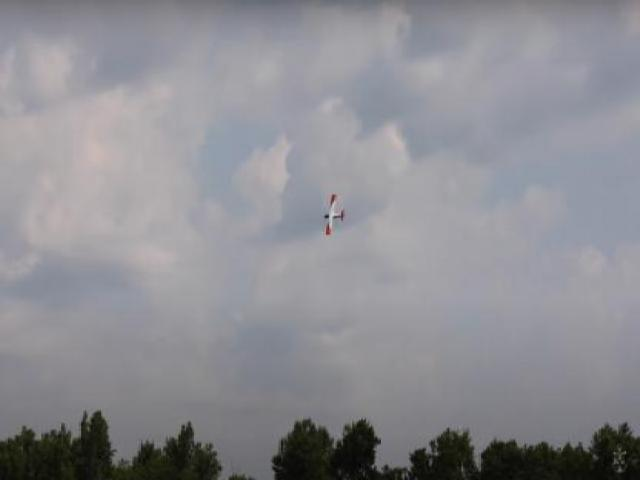uav: (316, 188, 352, 240)
